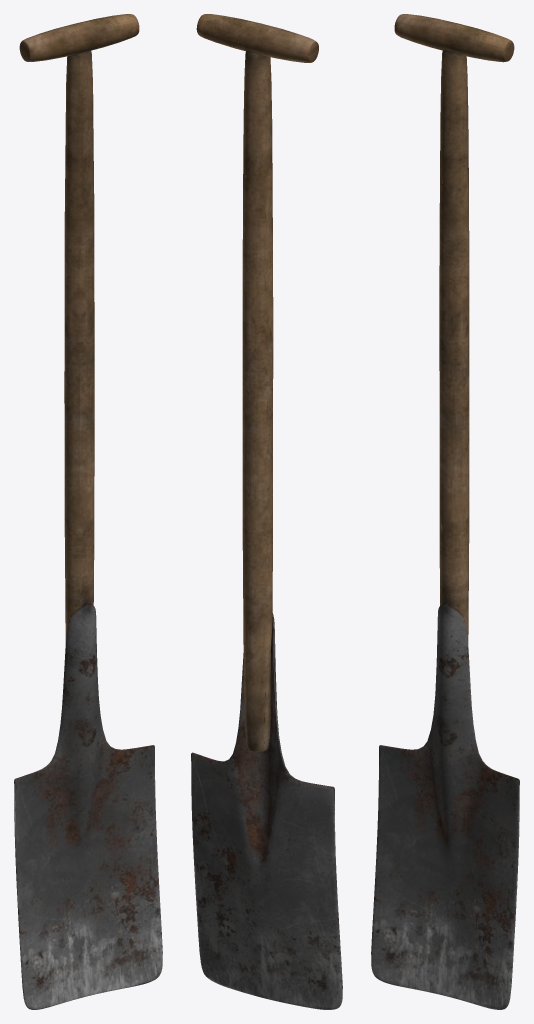
File: rusted_spade_01.glb
3 views of the same model, side by side, from view 1: azimuth 30°, elevation 25°; view 2: azimuth 150°, elevation 25°; view 3: azimuth 330°, elevation 25° (orthographic). The views are drawn at different scales.
Visible parts, largest first — view 1: rusted_spade_01; view 2: rusted_spade_01; view 3: rusted_spade_01.
Boxes of the visible parts, box(x1,y1,x2,y2) form: rusted_spade_01: box(14, 14, 162, 1009); rusted_spade_01: box(191, 14, 342, 1009); rusted_spade_01: box(371, 14, 519, 1009).
Bounding box in the file's own units: 0.1681 × 1.1 × 0.0456.
Materials: 1 (1 with a texture image).
